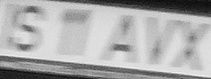1: (73, 8, 95, 61), (53, 6, 75, 57)
A: (99, 10, 141, 63)
I: (1, 2, 20, 54)
S: (16, 6, 45, 54)
V: (143, 12, 177, 70)
X: (176, 17, 211, 70)
